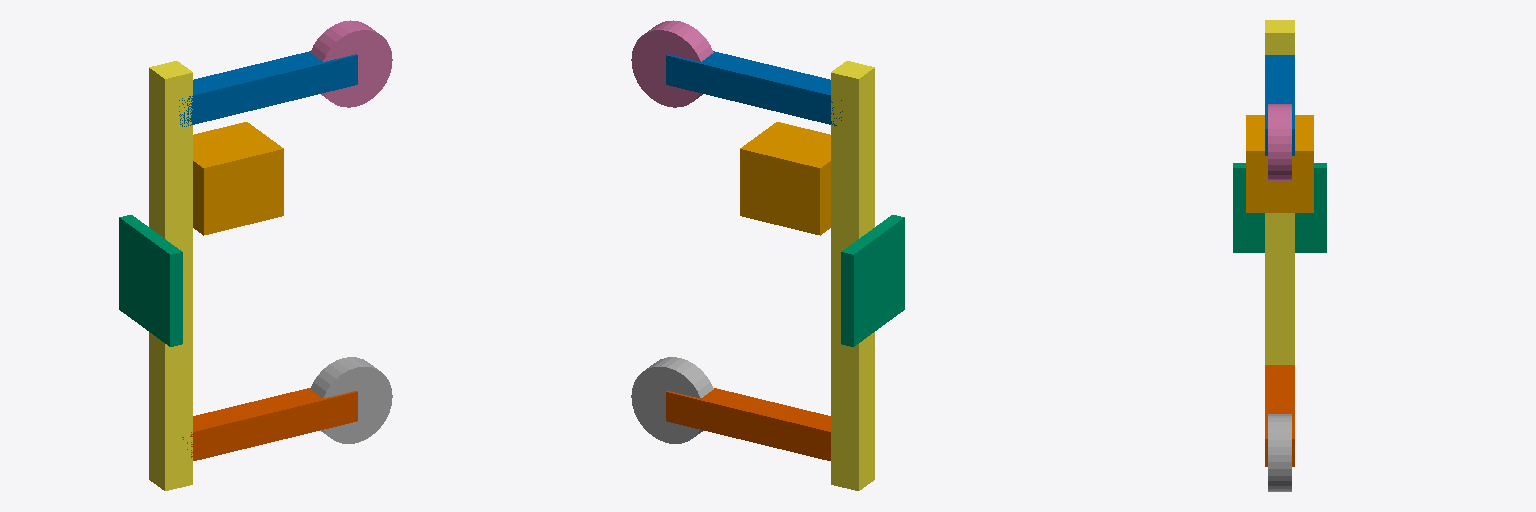
The robot description file, URDF, robot "kr120":
<?xml version="1.0"?>
<robot name="kr120" xmlns:tesseract="https://github.com/tesseract-robotics/tesseract" tesseract:make_convex="true">
  <link name="world"/>
  <joint name="world-base" type="fixed"><parent link="world"/><child link="base_link"/><origin xyz="0 0 0" rpy="0 0 0"/></joint>
  <link name="base_link"><visual><origin xyz="0 0 0" rpy="0 0 0"/><geometry><mesh filename="package://cells/meshes/kr120/visual/base_link.dae"/></geometry></visual><collision><origin xyz="0 0 0" rpy="0 0 0"/><geometry><mesh filename="package://cells/meshes/kr120/base_link.stl"/></geometry></collision></link>
  <link name="link_1"><visual><origin xyz="0 0 0" rpy="0 0 0"/><geometry><mesh filename="package://cells/meshes/kr120/visual/link_1.dae"/></geometry></visual><collision><origin xyz="0 0 0" rpy="0 0 0"/><geometry><mesh filename="package://cells/meshes/kr120/link_1.stl"/></geometry></collision></link>
  <link name="link_2"><visual><origin xyz="0 0 0" rpy="0 0 0"/><geometry><mesh filename="package://cells/meshes/kr120/visual/link_2.dae"/></geometry></visual><collision><origin xyz="0 0 0" rpy="0 0 0"/><geometry><mesh filename="package://cells/meshes/kr120/link_2.stl"/></geometry></collision></link>
  <link name="link_3"><visual><origin xyz="0 0 0" rpy="0 0 0"/><geometry><mesh filename="package://cells/meshes/kr120/visual/link_3.dae"/></geometry></visual><collision><origin xyz="0 0 0" rpy="0 0 0"/><geometry><mesh filename="package://cells/meshes/kr120/link_3.stl"/></geometry></collision></link>
  <link name="link_4"><visual><origin xyz="0 0 0" rpy="0 0 0"/><geometry><mesh filename="package://cells/meshes/kr120/visual/link_4.dae"/></geometry></visual><collision><origin xyz="0 0 0" rpy="0 0 0"/><geometry><mesh filename="package://cells/meshes/kr120/link_4.stl"/></geometry></collision></link>
  <link name="link_5"><visual><origin xyz="0 0 0" rpy="0 0 0"/><geometry><mesh filename="package://cells/meshes/kr120/visual/link_5.dae"/></geometry></visual><collision><origin xyz="0 0 0" rpy="0 0 0"/><geometry><mesh filename="package://cells/meshes/kr120/link_5.stl"/></geometry></collision></link>
  <link name="link_6"><visual><origin xyz="0 0 0" rpy="0 0 0"/><geometry><mesh filename="package://cells/meshes/kr120/visual/link_6.dae"/></geometry></visual><collision><origin xyz="0 0 0" rpy="0 0 0"/><geometry><mesh filename="package://cells/meshes/kr120/link_6.stl"/></geometry></collision></link>
  <link name="flange"></link>
  <link name="tool0"></link>
  <joint name="joint_a1" type="revolute"><parent link="base_link"/><child link="link_1"/><origin xyz="0 0 0.675" rpy="0 0 0"/><axis xyz="0 0 -1"/><limit effort="0" lower="-3.228859" upper="3.228859" velocity="2.722714"/></joint>
  <joint name="joint_a2" type="revolute"><parent link="link_1"/><child link="link_2"/><origin xyz="0.35 0 0" rpy="0 0 0"/><axis xyz="0 1 0"/><limit effort="0" lower="-2.705260" upper="0.610865" velocity="2.722714"/></joint>
  <joint name="joint_a3" type="revolute"><parent link="link_2"/><child link="link_3"/><origin xyz="1.150 0 0" rpy="0 0 0"/><axis xyz="0 1 0"/><limit effort="0" lower="-2.268928" upper="2.687807" velocity="2.722714"/></joint>
  <joint name="joint_a4" type="revolute"><parent link="link_3"/><child link="link_4"/><origin xyz="1.0 0 -0.041" rpy="0 0 0"/><axis xyz="-1 0 0"/><limit effort="0" lower="-6.108652" upper="6.108652" velocity="5.759587"/></joint>
  <joint name="joint_a5" type="revolute"><parent link="link_4"/><child link="link_5"/><origin xyz="0 0 0" rpy="0 0 0"/><axis xyz="0 1 0"/><limit effort="0" lower="-2.268928" upper="2.268928" velocity="5.759587"/></joint>
  <joint name="joint_a6" type="revolute"><parent link="link_5"/><child link="link_6"/><origin xyz="0 0 0" rpy="0 0 0"/><axis xyz="-1 0 0"/><limit effort="0" lower="-6.108652" upper="6.108652" velocity="10.733775"/></joint>
  <joint name="joint_a6-flange" type="fixed"><parent link="link_6"/><child link="flange"/><origin xyz="0.215 0 0" rpy="0 0 0"/></joint>
  <joint name="flange-tool0" type="fixed"><parent link="flange"/><child link="tool0"/><origin xyz="0 0 0" rpy="0 1.5707963267948966 0"/></joint>
  <link name="wiresaw_plate"><visual><origin xyz="0 0 0.015" rpy="0 0 0"/><geometry><box size="0.22 0.22 0.03"/></geometry></visual><collision><origin xyz="0 0 0.015" rpy="0 0 0"/><geometry><box size="0.22 0.22 0.03"/></geometry></collision></link>
  <joint name="tool0-wiresaw_plate" type="fixed"><parent link="tool0"/><child link="wiresaw_plate"/><origin xyz="0 0 0" rpy="0 0 0"/></joint>
  <link name="wiresaw_beam"><visual><origin xyz="0 0 0.065" rpy="0 0 0"/><geometry><box size="0.98 0.07 0.07"/></geometry></visual><collision><origin xyz="0 0 0.065" rpy="0 0 0"/><geometry><box size="0.98 0.07 0.07"/></geometry></collision></link>
  <joint name="tool0-wiresaw_beam" type="fixed"><parent link="tool0"/><child link="wiresaw_beam"/><origin xyz="0 0 0" rpy="0 0 0"/></joint>
  <link name="wiresaw_arm_a"><visual><origin xyz="-0.4 0 0.2875" rpy="0 0 0"/><geometry><box size="0.07 0.07 0.445"/></geometry></visual><collision><origin xyz="-0.4 0 0.2875" rpy="0 0 0"/><geometry><box size="0.07 0.07 0.445"/></geometry></collision></link>
  <joint name="tool0-wiresaw_arm_a" type="fixed"><parent link="tool0"/><child link="wiresaw_arm_a"/><origin xyz="0 0 0" rpy="0 0 0"/></joint>
  <link name="wiresaw_arm_b"><visual><origin xyz="0.4 0 0.2875" rpy="0 0 0"/><geometry><box size="0.07 0.07 0.445"/></geometry></visual><collision><origin xyz="0.4 0 0.2875" rpy="0 0 0"/><geometry><box size="0.07 0.07 0.445"/></geometry></collision></link>
  <joint name="tool0-wiresaw_arm_b" type="fixed"><parent link="tool0"/><child link="wiresaw_arm_b"/><origin xyz="0 0 0" rpy="0 0 0"/></joint>
  <link name="wiresaw_pulley_a"><visual><origin xyz="-0.4 0 0.51" rpy="1.5707963267948966 0 0"/><geometry><cylinder radius="0.09" length="0.05600000000000001"/></geometry></visual><collision><origin xyz="-0.4 0 0.51" rpy="1.5707963267948966 0 0"/><geometry><cylinder radius="0.09" length="0.05600000000000001"/></geometry></collision></link>
  <joint name="tool0-wiresaw_pulley_a" type="fixed"><parent link="tool0"/><child link="wiresaw_pulley_a"/><origin xyz="0 0 0" rpy="0 0 0"/></joint>
  <link name="wiresaw_pulley_b"><visual><origin xyz="0.4 0 0.51" rpy="1.5707963267948966 0 0"/><geometry><cylinder radius="0.09" length="0.05600000000000001"/></geometry></visual><collision><origin xyz="0.4 0 0.51" rpy="1.5707963267948966 0 0"/><geometry><cylinder radius="0.09" length="0.05600000000000001"/></geometry></collision></link>
  <joint name="tool0-wiresaw_pulley_b" type="fixed"><parent link="tool0"/><child link="wiresaw_pulley_b"/><origin xyz="0 0 0" rpy="0 0 0"/></joint>
  <link name="wiresaw_motor"><visual><origin xyz="-0.2 0 0.2" rpy="0 0 0"/><geometry><box size="0.16 0.16 0.2"/></geometry></visual><collision><origin xyz="-0.2 0 0.2" rpy="0 0 0"/><geometry><box size="0.16 0.16 0.2"/></geometry></collision></link>
  <joint name="tool0-wiresaw_motor" type="fixed"><parent link="tool0"/><child link="wiresaw_motor"/><origin xyz="0 0 0" rpy="0 0 0"/></joint>
</robot>

--- What the picture shows (computed from the rendered views, not written in the file) ---
Views: 3 orthographic renders of the robot side by side, from view 1: azimuth 30°, elevation 25°; view 2: azimuth 150°, elevation 25°; view 3: azimuth 270°, elevation 25°.
Robot: kr120 — 17 links, 16 joints (6 revolute, 10 fixed); root link world; default pose: all joints at 0.
Links seen in each view (by area): view 1: wiresaw_beam, wiresaw_motor, wiresaw_arm_a, wiresaw_arm_b, wiresaw_plate, wiresaw_pulley_b, wiresaw_pulley_a; view 2: wiresaw_beam, wiresaw_motor, wiresaw_arm_a, wiresaw_arm_b, wiresaw_plate, wiresaw_pulley_b, wiresaw_pulley_a; view 3: wiresaw_beam, wiresaw_motor, wiresaw_plate, wiresaw_pulley_b, wiresaw_pulley_a, wiresaw_arm_b, wiresaw_arm_a.
Link boxes in pixels (x1,y1,x2,y2): wiresaw_beam: (149,61,192,490); wiresaw_motor: (193,122,283,235); wiresaw_arm_a: (179,51,357,126); wiresaw_arm_b: (182,388,357,460); wiresaw_plate: (119,215,182,346); wiresaw_pulley_b: (310,357,392,443); wiresaw_pulley_a: (310,20,392,107); wiresaw_beam: (831,61,874,490); wiresaw_motor: (740,122,830,235); wiresaw_arm_a: (666,51,842,125); wiresaw_arm_b: (666,388,830,460); wiresaw_plate: (841,215,904,346); wiresaw_pulley_b: (631,357,713,443); wiresaw_pulley_a: (631,20,713,107); wiresaw_beam: (1265,20,1294,364); wiresaw_motor: (1246,115,1313,212); wiresaw_plate: (1233,163,1326,252); wiresaw_pulley_b: (1268,414,1291,491); wiresaw_pulley_a: (1268,104,1291,180); wiresaw_arm_b: (1265,365,1294,466); wiresaw_arm_a: (1265,55,1294,155).
Bounding box of the posed robot: 0.6 × 0.22 × 0.98 m (x, y, z).
0 mesh visuals loaded from 7 distinct referenced files (none loaded); not drawn: 7 (reference not matched to a file when rendering).
